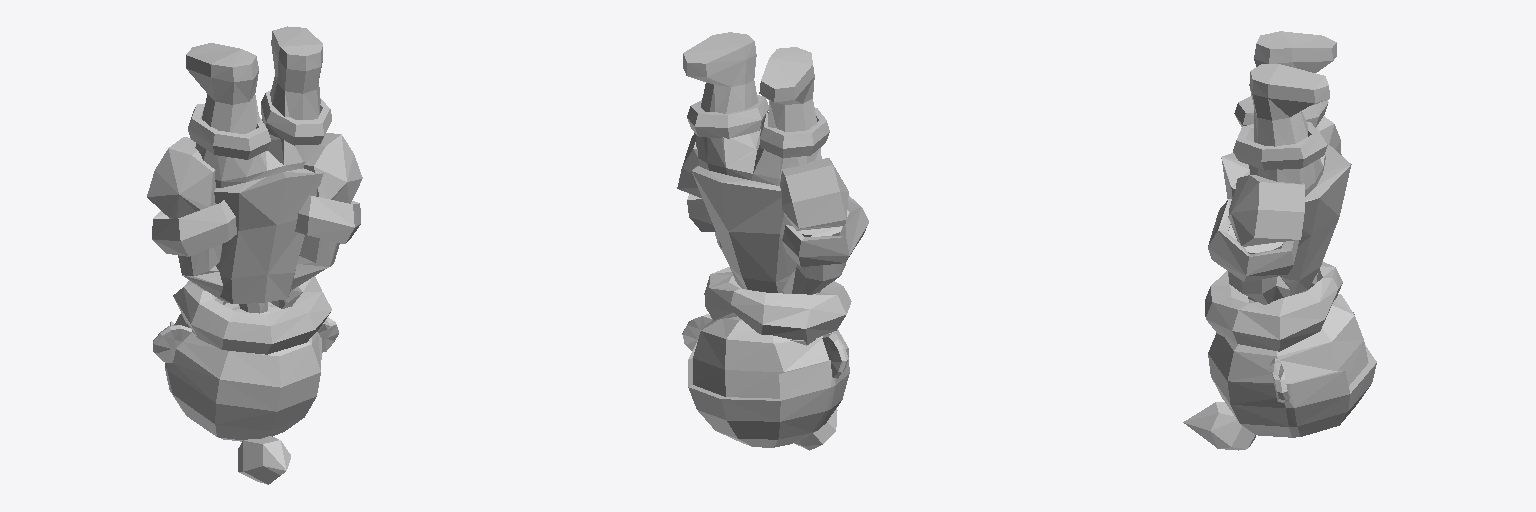
File: eikastanding_000099.obj
3 renders of one model, left to right at view 1: azimuth 30°, elevation 25°; view 2: azimuth 150°, elevation 25°; view 3: azimuth 270°, elevation 25°, orthographic.
Visible parts, largest first — view 1: Cylinder; view 2: Cylinder; view 3: Cylinder.
Boxes of the visible parts, x1,y1,x2,y2 form: Cylinder: [147, 26, 362, 484]; Cylinder: [677, 32, 868, 450]; Cylinder: [1183, 31, 1376, 450].
Size of the model in its own units: 26.61 by 55.39 by 23.82.